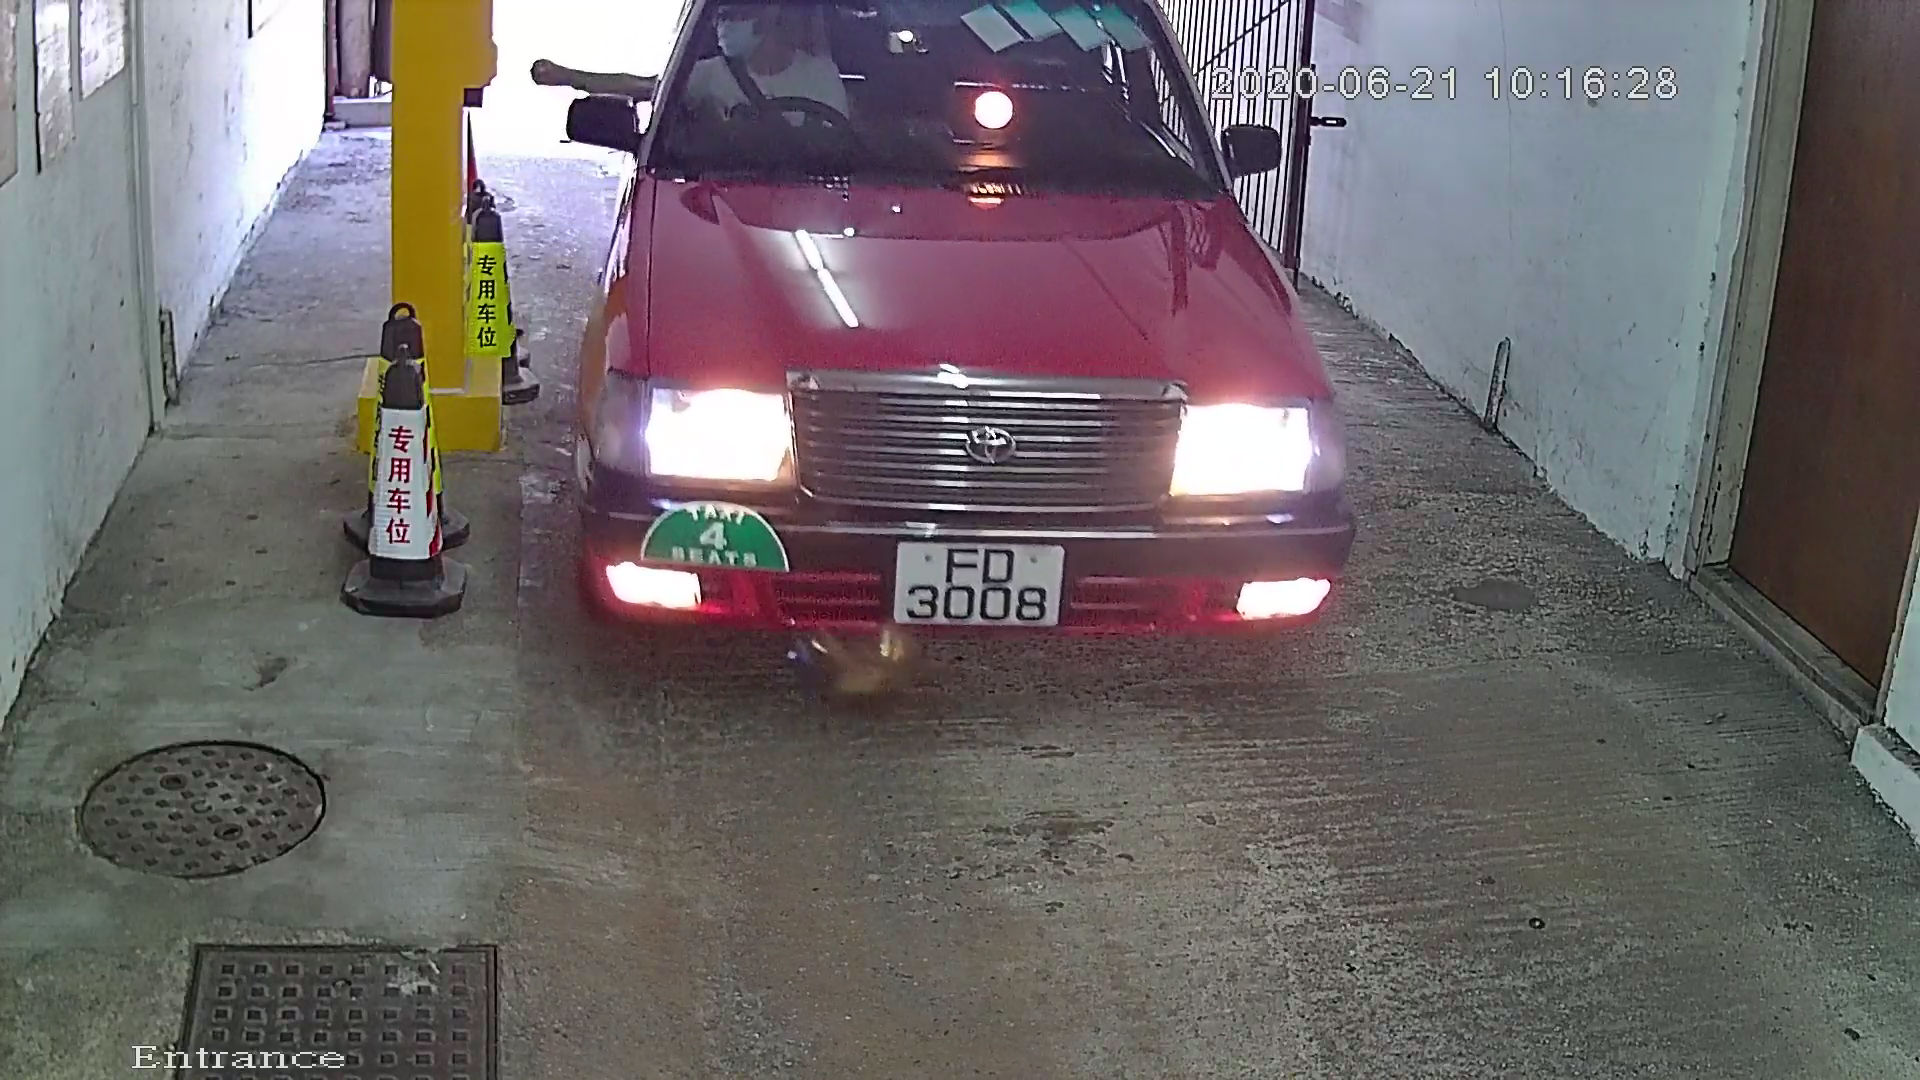taxi: (504, 1, 1431, 744)
taxi_mark: (621, 465, 815, 613)
